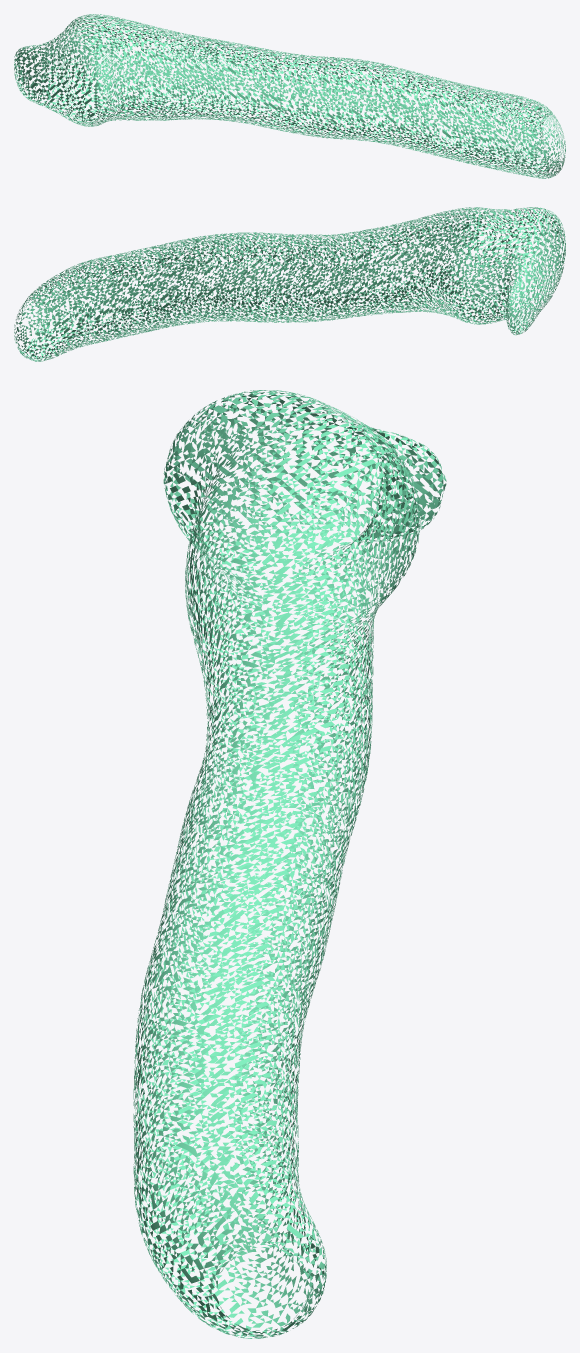
The model's file is healthy.glb.
3 renders of one model, top to bottom at view 1: azimuth 30°, elevation 25°; view 2: azimuth 150°, elevation 25°; view 3: azimuth 270°, elevation 25°, orthographic. The views are drawn at different scales.
Bounding box in the file's own units: 132 × 63.17 × 35.65.
